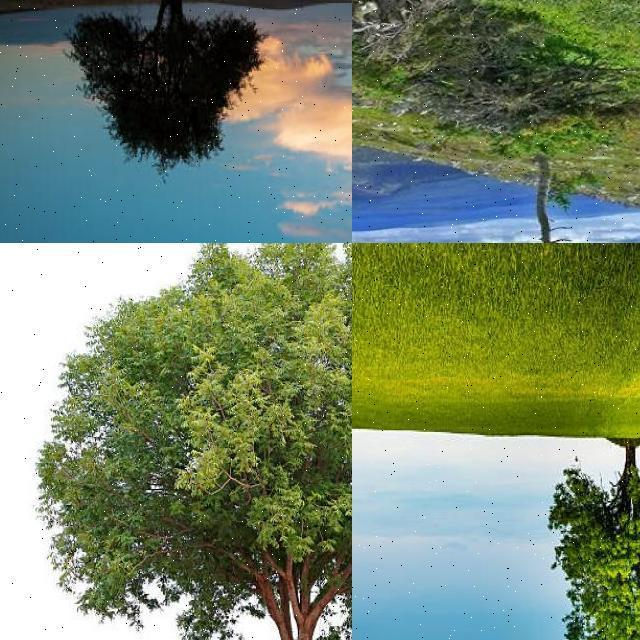tree: (32, 243, 351, 640), (81, 0, 257, 182), (544, 435, 640, 640), (484, 181, 608, 243)
